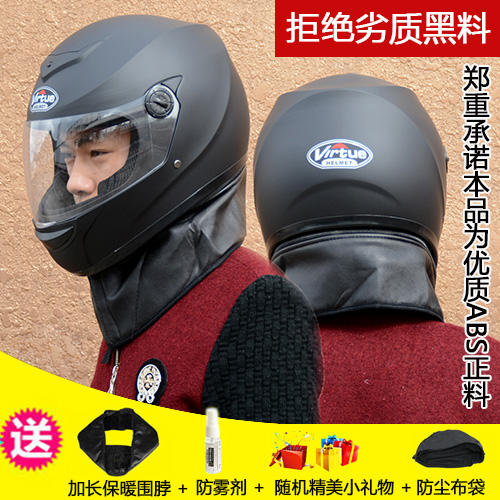helmet: (31, 28, 237, 225), (250, 73, 457, 241)
